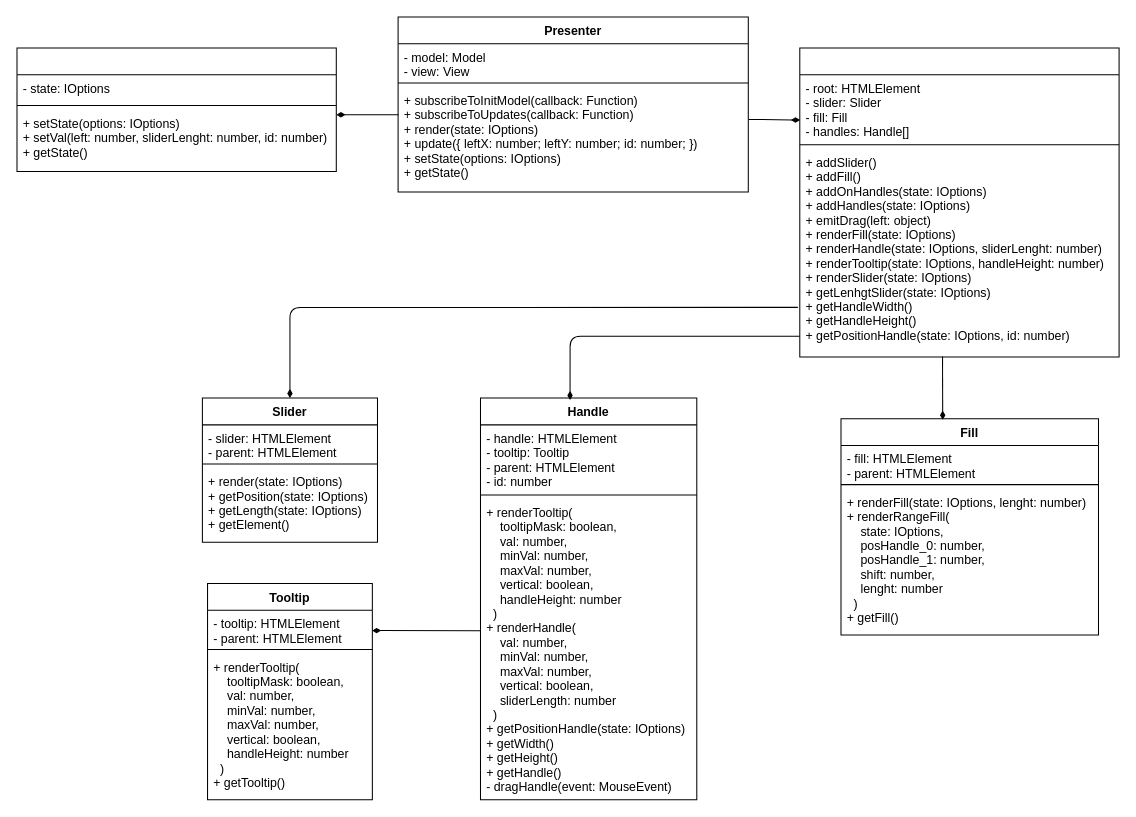
Image size: 1136x817. Some labels were removed from this diagram. Here are the shapes that lost their labels. From the top down, the box of each, then its label:
(16, 47, 336, 171): Model
(799, 47, 1119, 357): View
